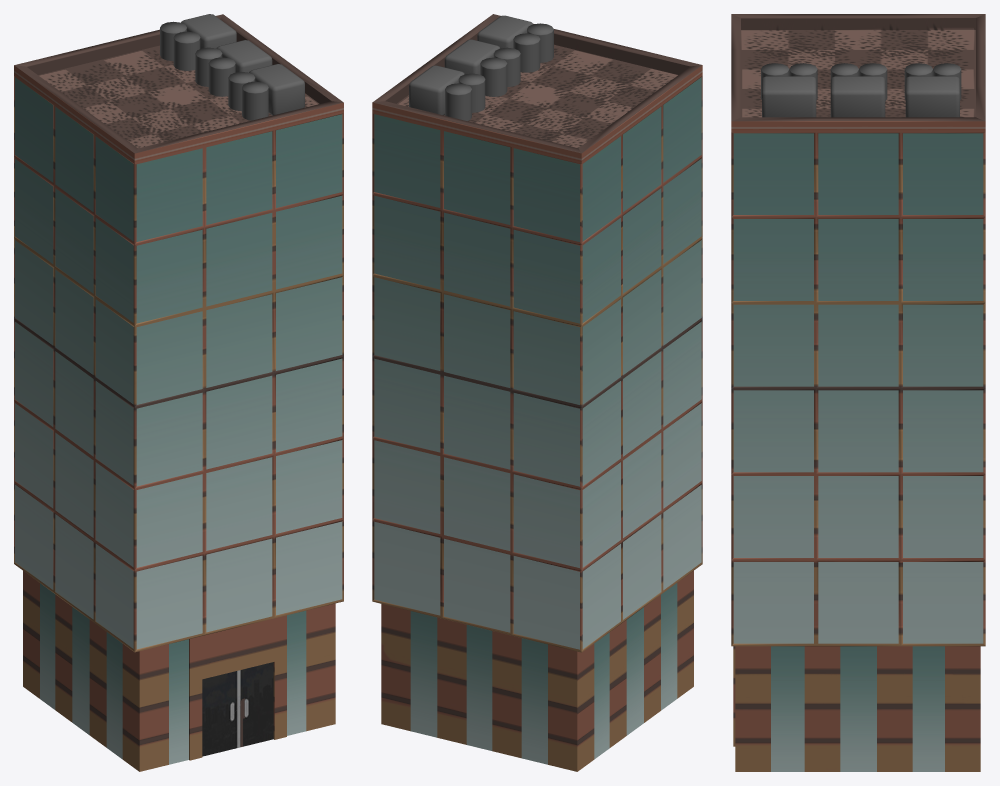
The model's file is Revised Building 1.FBX.
The picture shows the model from 3 angles, left to right: view 1: azimuth 30°, elevation 25°; view 2: azimuth 150°, elevation 25°; view 3: azimuth 270°, elevation 25°; orthographic projection. The views are drawn at different scales.
Visible parts, largest first — view 1: Downtown Building 001; view 2: Downtown Building 001; view 3: Downtown Building 001.
Boxes of the visible parts, bbox=[...] form: Downtown Building 001: bbox=[14, 14, 343, 771]; Downtown Building 001: bbox=[372, 14, 702, 771]; Downtown Building 001: bbox=[731, 14, 985, 771].
Size of the model in its own units: 127 by 370 by 127.
1 material, 1 textured.
